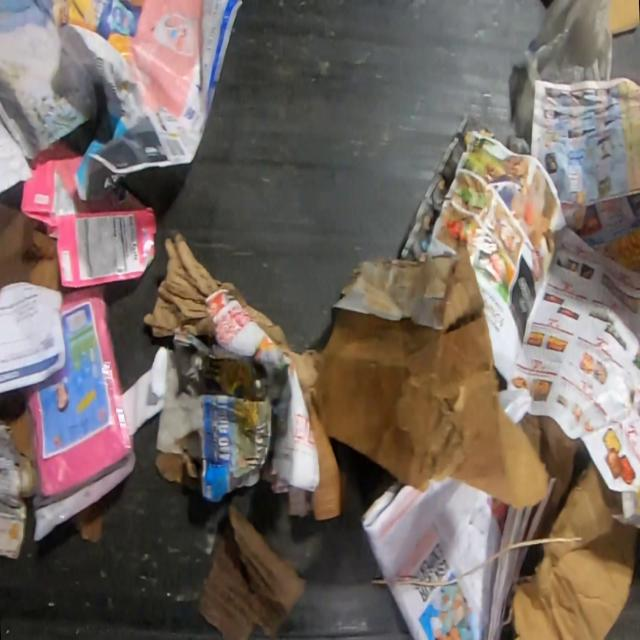cardboard: (144, 236, 550, 522), (508, 466, 639, 640), (22, 136, 156, 292), (195, 505, 307, 639), (0, 201, 64, 292), (0, 388, 35, 468)
soft_plastic: (19, 284, 138, 544), (508, 0, 614, 156)
